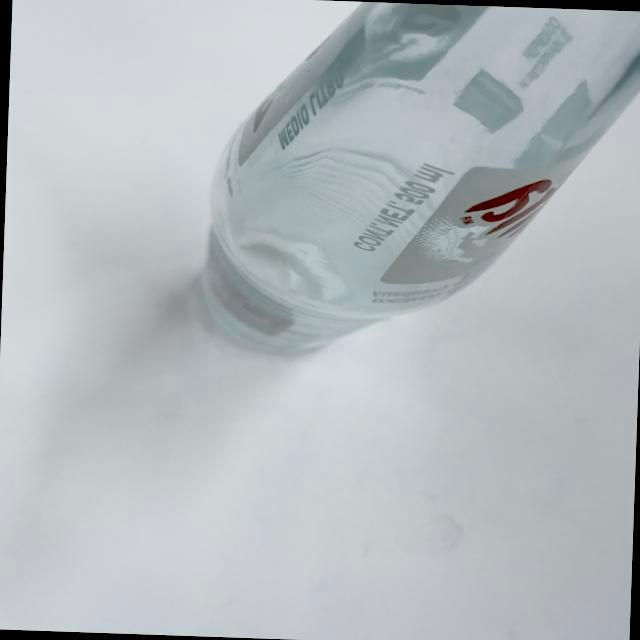glass: (183, 0, 640, 371)
